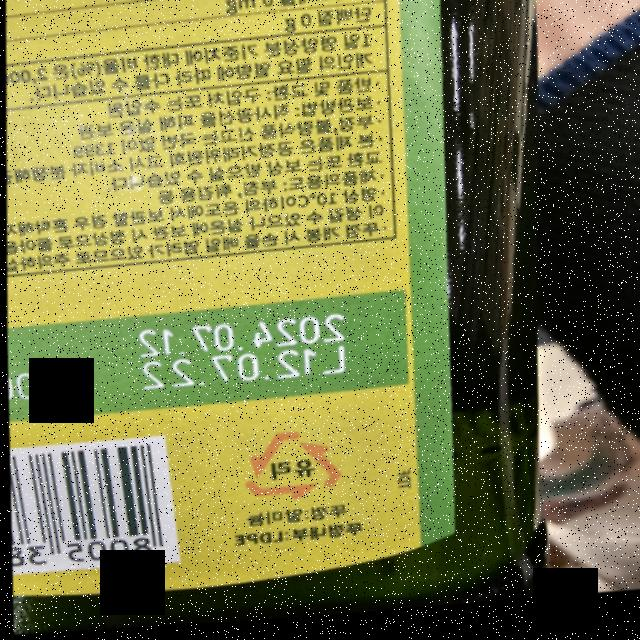Glass: (239, 427, 343, 512)
